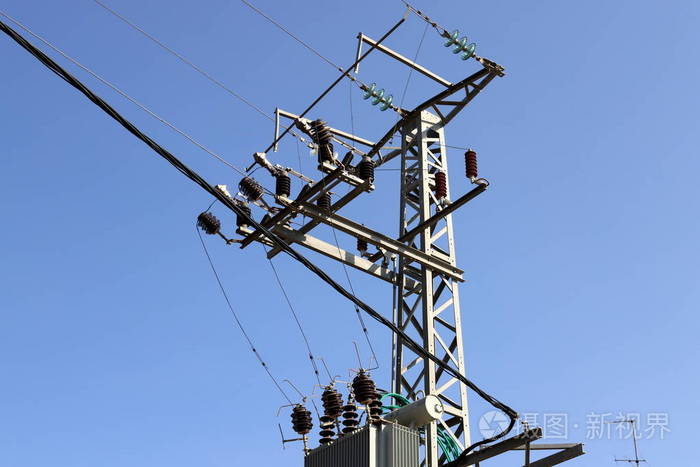insulator: (360, 82, 395, 113), (441, 30, 477, 59)
